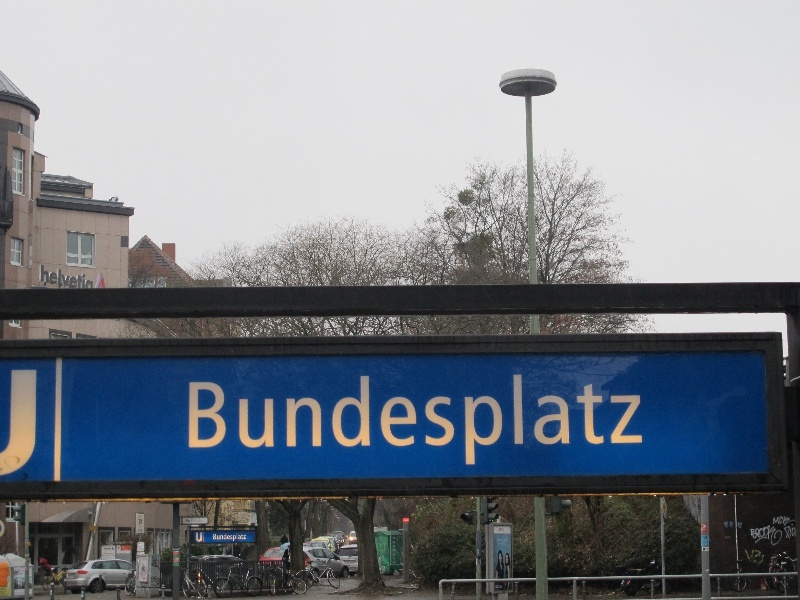text: (1, 368, 16, 479), (17, 368, 32, 479), (193, 372, 208, 475), (209, 372, 224, 475), (225, 372, 240, 475), (241, 372, 256, 475), (257, 372, 272, 475), (273, 372, 288, 475), (289, 372, 304, 475), (305, 372, 320, 475), (321, 372, 336, 475), (337, 372, 352, 475), (353, 372, 368, 475), (369, 372, 384, 475), (385, 372, 400, 475), (401, 372, 416, 475), (417, 372, 432, 475), (433, 372, 448, 475), (449, 372, 464, 475), (465, 372, 480, 475), (481, 372, 496, 475), (497, 372, 512, 475), (513, 372, 528, 475), (529, 372, 544, 475), (545, 372, 560, 475), (561, 372, 576, 475), (577, 372, 592, 475), (593, 372, 608, 475), (609, 372, 624, 475), (625, 372, 640, 475), (641, 372, 647, 475), (33, 368, 38, 479), (753, 526, 768, 561), (769, 526, 784, 561), (49, 264, 64, 292), (65, 264, 80, 292), (188, 372, 192, 475), (81, 264, 94, 292), (41, 264, 48, 292), (773, 514, 784, 530), (785, 514, 796, 530), (785, 526, 796, 540), (225, 533, 240, 542), (196, 533, 208, 543), (749, 526, 752, 561), (213, 533, 224, 542), (152, 557, 160, 569), (152, 576, 160, 586), (497, 536, 509, 542), (785, 526, 787, 561), (241, 533, 247, 542), (193, 519, 204, 523), (499, 529, 512, 532), (139, 519, 144, 525), (138, 529, 144, 533), (186, 519, 192, 523), (104, 548, 112, 550), (140, 577, 144, 580), (104, 553, 112, 554), (145, 577, 147, 580), (113, 553, 115, 554)
